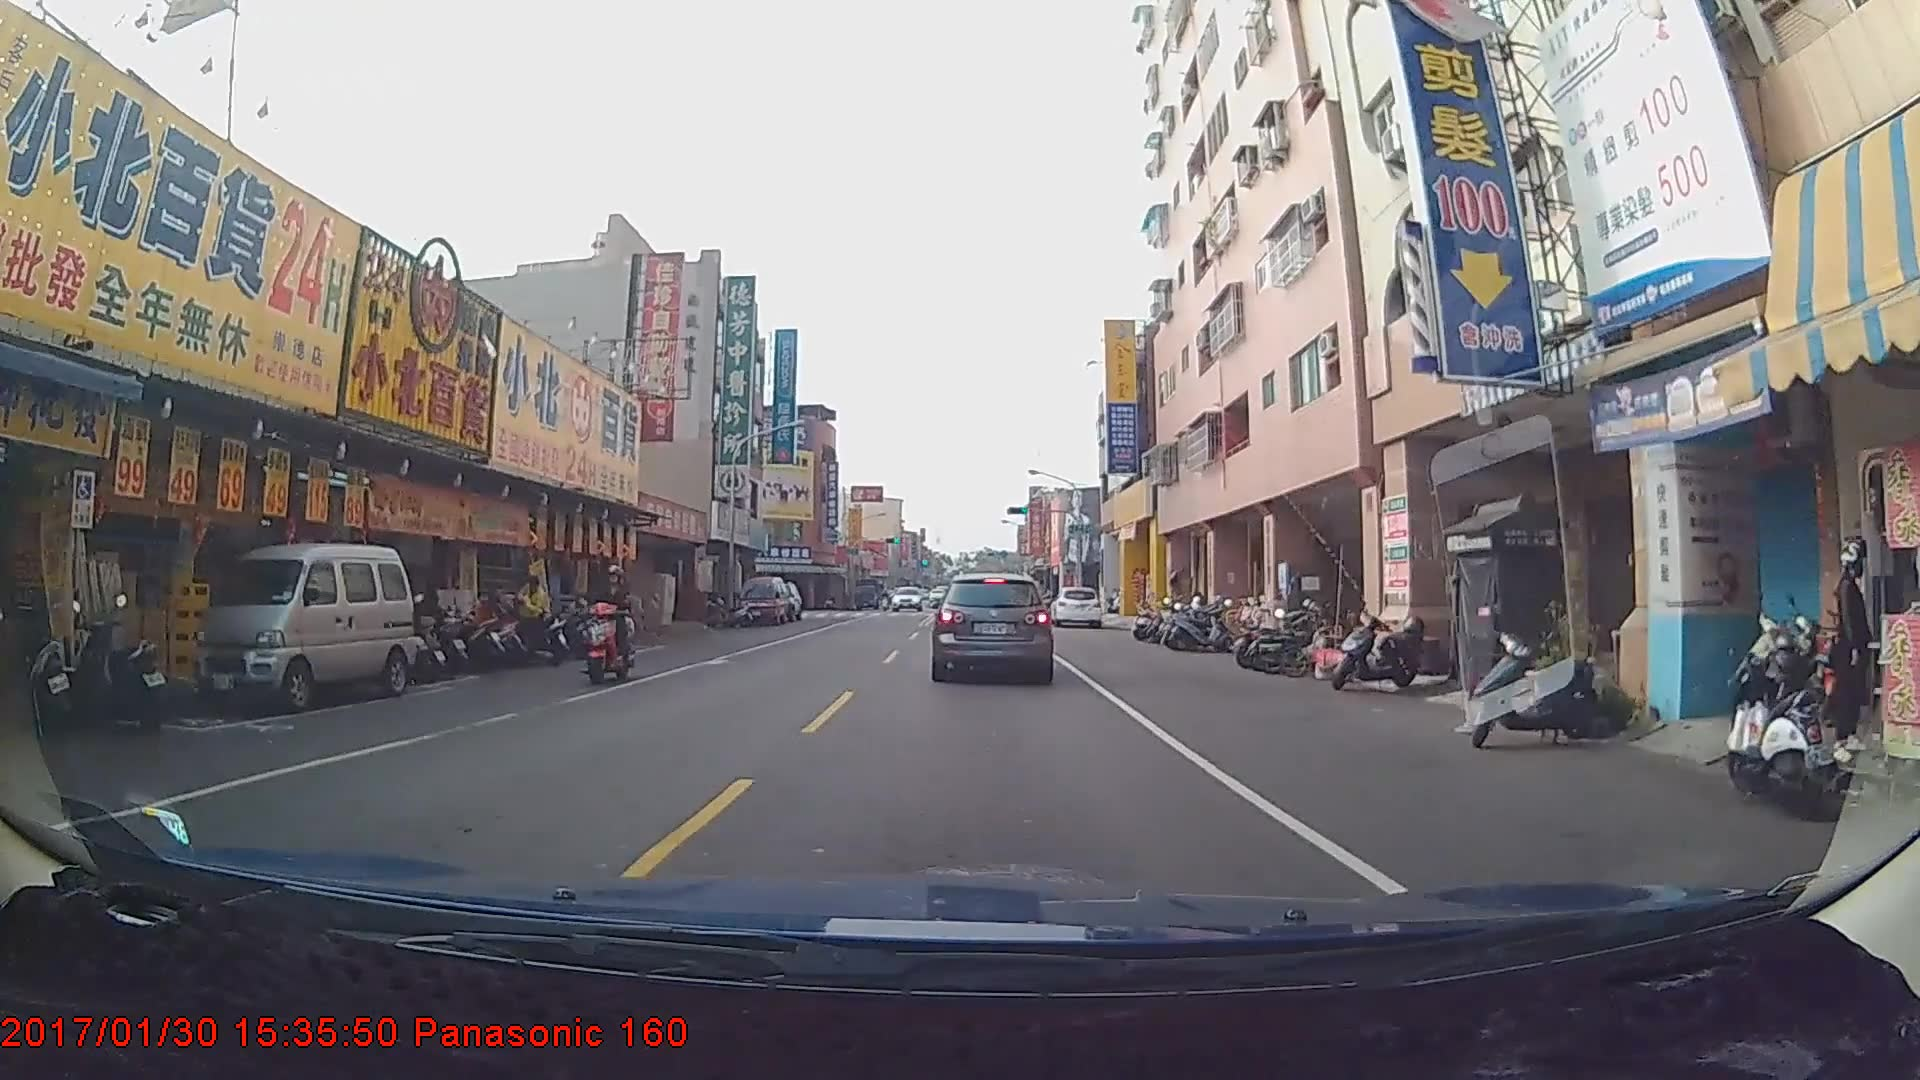pedestrian: (515, 576, 553, 660)
rider: (575, 563, 645, 687)
vehicle: (191, 546, 410, 710), (932, 569, 1053, 681), (736, 576, 788, 626), (1049, 587, 1102, 629), (889, 580, 920, 604)
